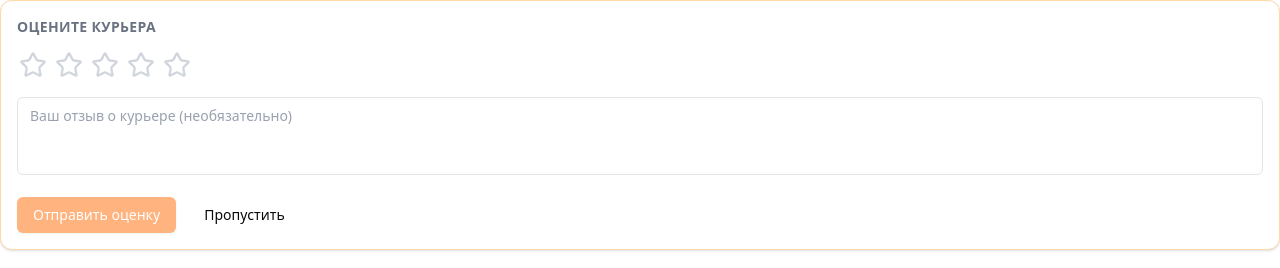
RatingCard › renders 5 star buttons; submit disabled at 0 stars, enabled after picking 4
This screenshot has width=1280, height=268.
Expected: the button "Отправить оценку" is disabled, [17,197,176,233]
Click the button named "Оценить на 4 звёзд": (141, 65) [125,49,157,81]
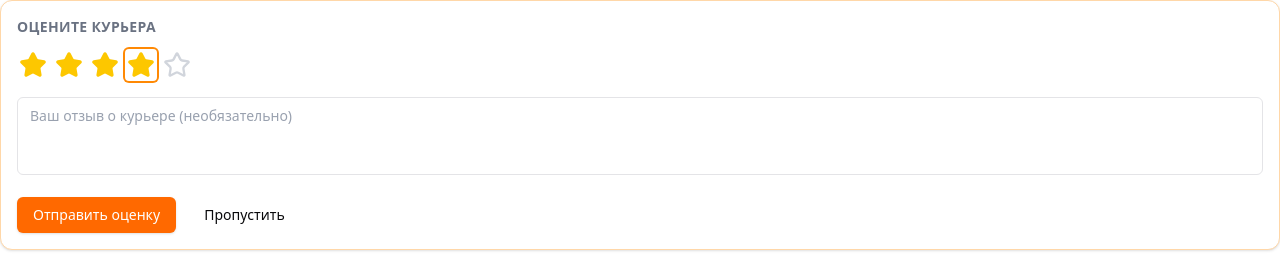
Expected: the button "Отправить оценку" is enabled, [17,197,176,233]
